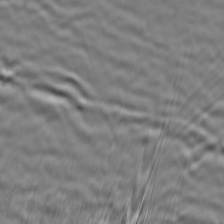cavities: (1, 81, 224, 222)
